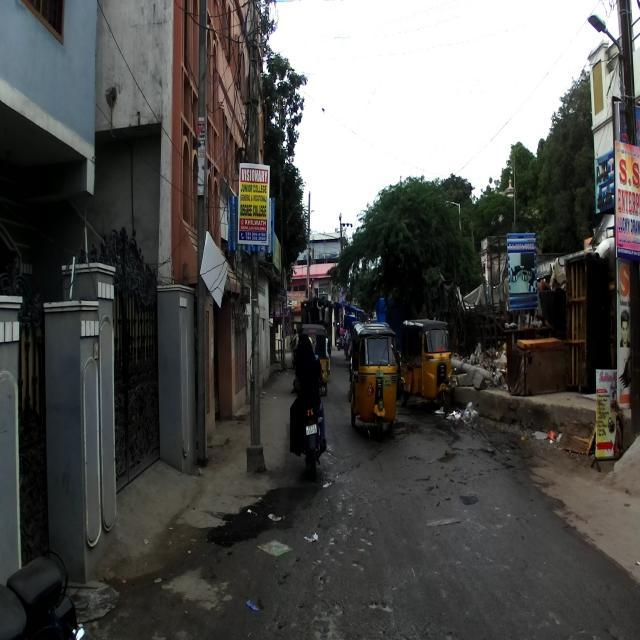Pothole: (395, 421, 427, 439), (349, 559, 370, 575), (437, 450, 458, 466), (358, 534, 374, 550), (321, 481, 337, 492), (310, 558, 324, 570), (384, 604, 397, 615), (348, 502, 355, 520), (369, 603, 380, 612), (328, 536, 337, 547)
